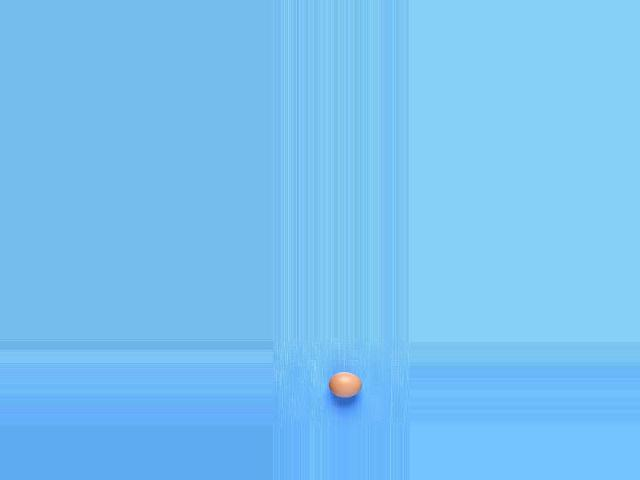egg: (329, 371, 361, 398)
